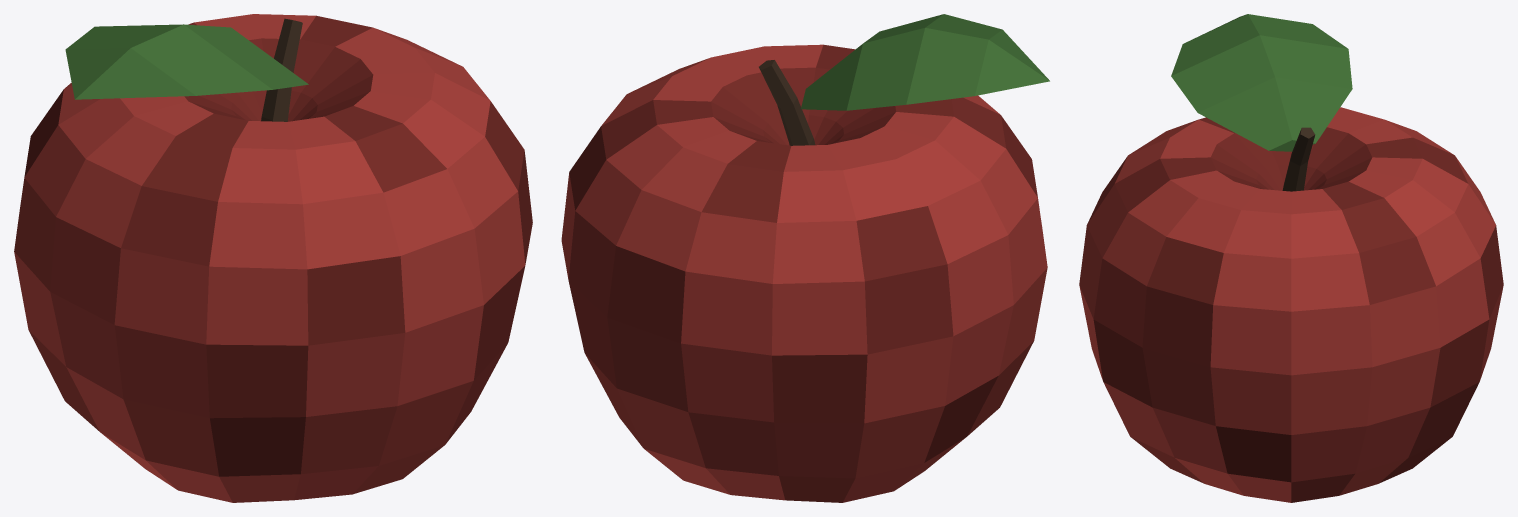
Rendered from mdvl_food_apple_01.glb.
3 renders of one model, left to right at view 1: azimuth 30°, elevation 25°; view 2: azimuth 150°, elevation 25°; view 3: azimuth 270°, elevation 25°, orthographic. The views are drawn at different scales.
Visible parts, largest first — view 1: mdvl_food_apple_01; view 2: mdvl_food_apple_01; view 3: mdvl_food_apple_01.
Boxes of the visible parts, x1,y1,x2,y2 form: mdvl_food_apple_01: (14, 14, 532, 502); mdvl_food_apple_01: (561, 14, 1049, 502); mdvl_food_apple_01: (1079, 14, 1503, 502).
Size of the model in its own units: 0.0853 by 0.0838 by 0.084.
Materials: 1 (1 with a texture image).
